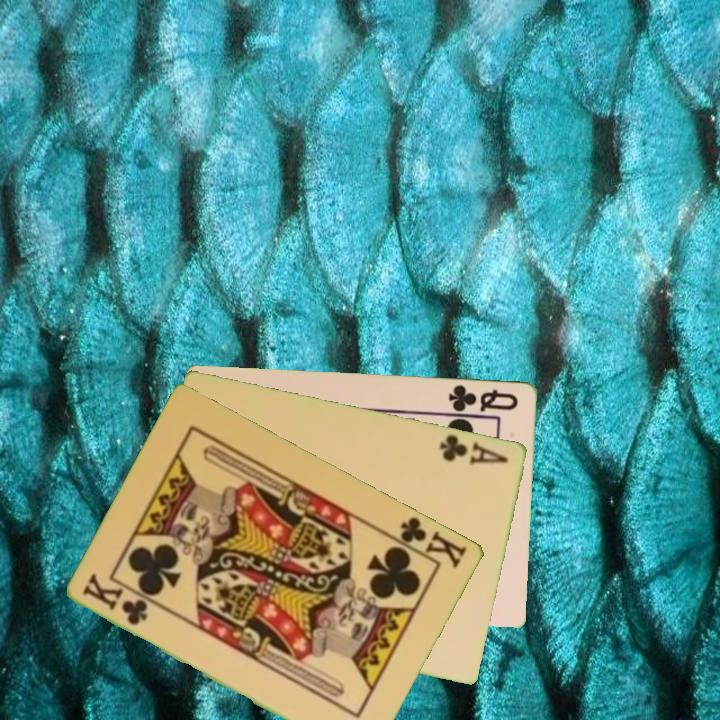Ac: (436, 431, 512, 468)
Kc: (387, 512, 471, 571), (79, 572, 152, 628)
Qc: (445, 381, 521, 414)
